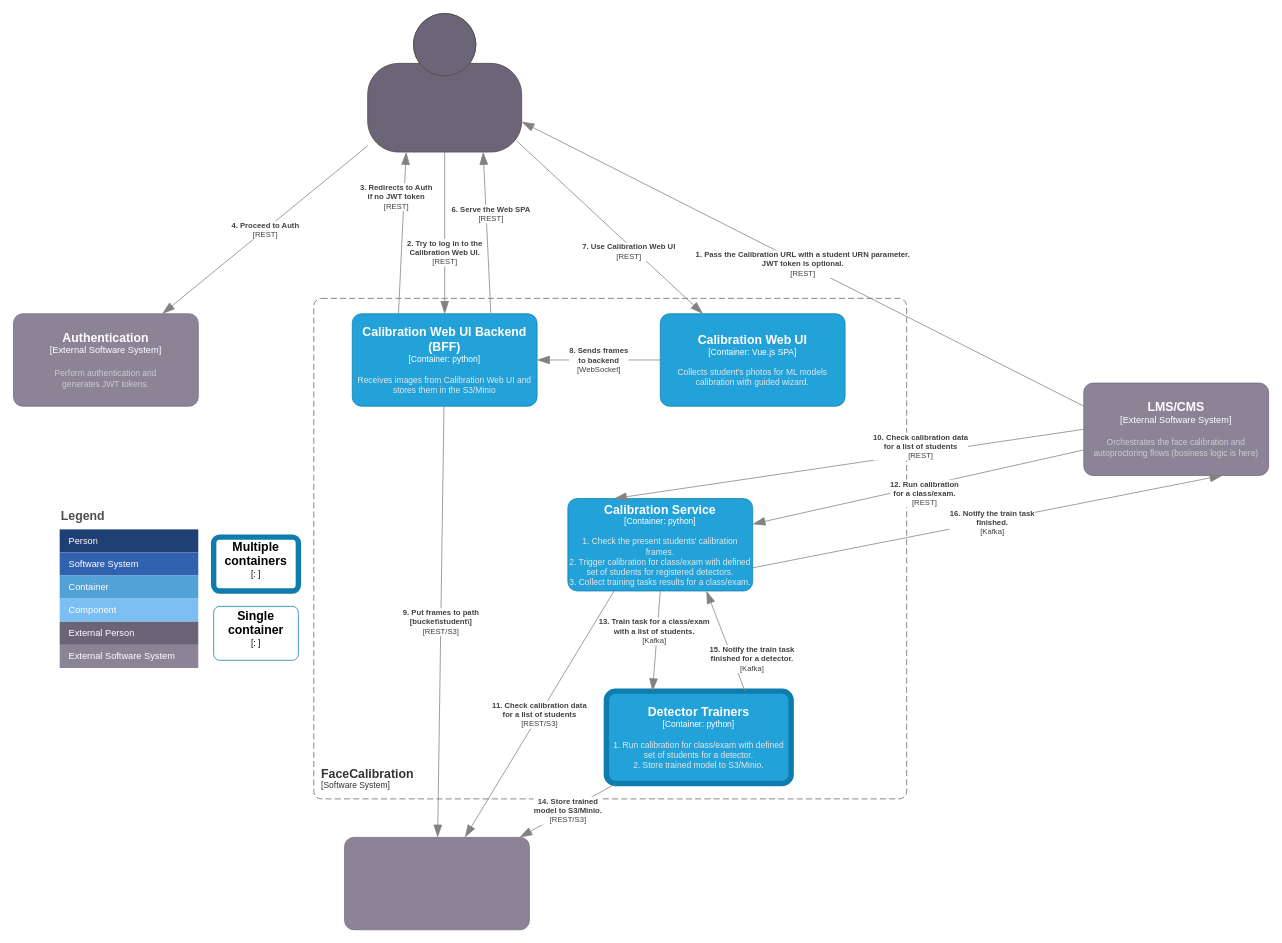
This 1282x943 diagram has some shape labels left out. The centre of each missing label's shape, as x and y in pixels:
"S3/Minio object storage [External Software System]" goes at (436,883).
"Student [Person] Existed student, registered in the LMS." goes at (444,82).
